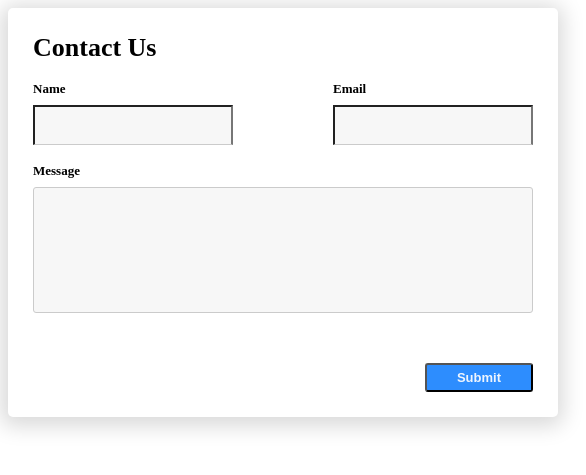
Test: ContactForm › should not submit when name is missing
Step 1. Type "rebel@rebellious.me" into the field labelled "Email" → (433, 125), box [333,105,533,145]
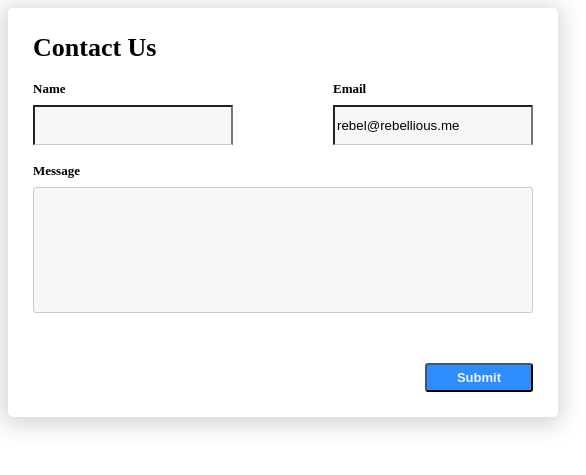
Step 2. Type "a;dfjklkjlafsd;kjlfasdkdjl;fs" into the text box labelled "Message" → (283, 250), box [33,187,533,313]
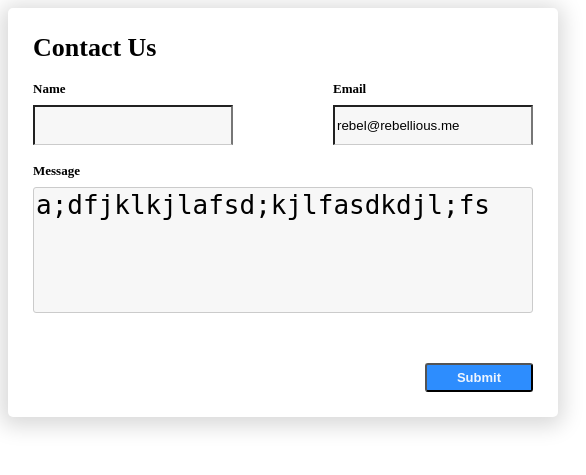
Step 3. Click the button "Submit" → (479, 378), box [425,363,533,392]
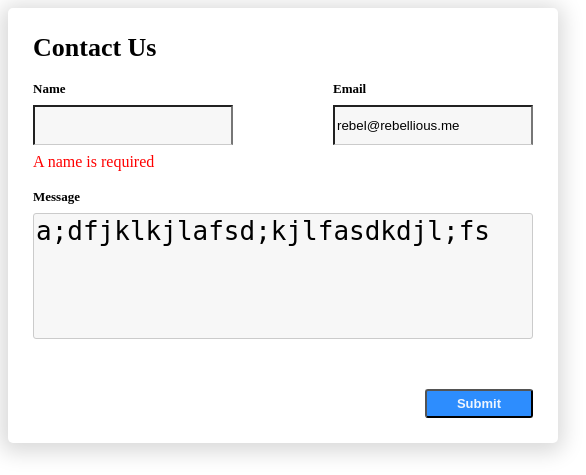
Check: the text "A name is required" is shown, box [33,153,154,170]
